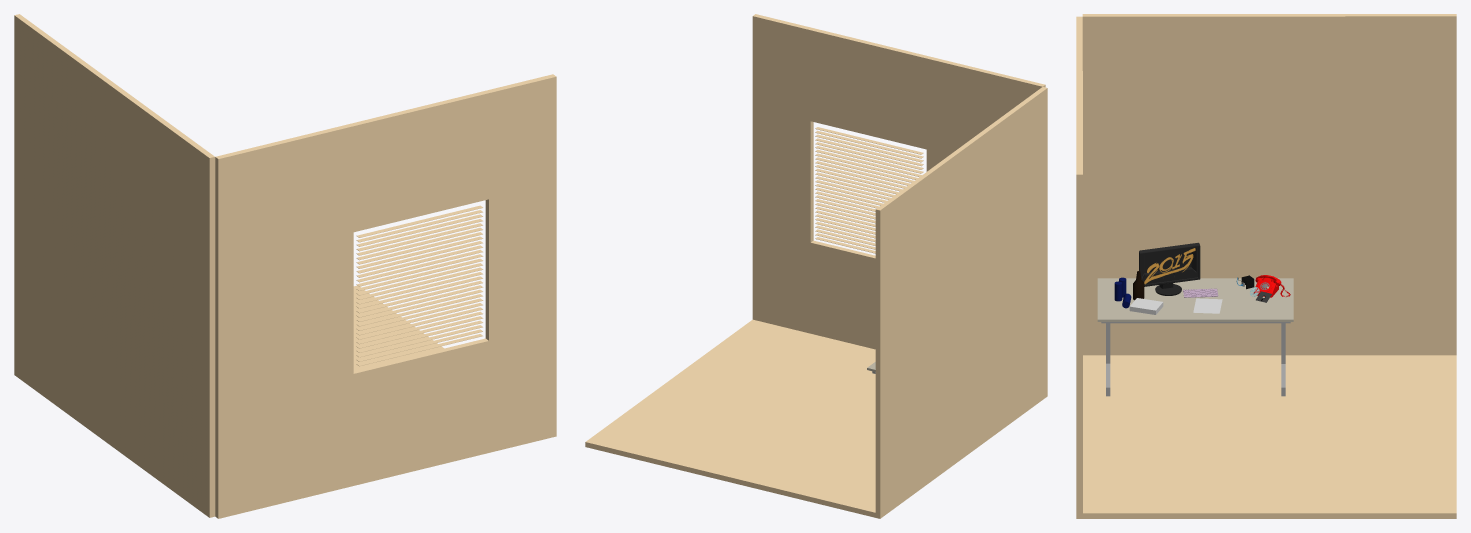
Rendered from hacker_room.dae.
The picture shows the model from 3 angles, left to right: view 1: azimuth 30°, elevation 25°; view 2: azimuth 150°, elevation 25°; view 3: azimuth 270°, elevation 25°; orthographic projection. The views are drawn at different scales.
Visible parts, largest first — view 1: SketchUp; view 2: SketchUp; view 3: SketchUp, ID1190, JERKER_Schreibtisch, ID51, ID45, display-panel, IDA Book.
Boxes of the visible parts, x1,y1,x2,y2 form: SketchUp: [14, 14, 556, 518]; SketchUp: [585, 14, 1047, 518]; SketchUp: [1076, 14, 1456, 518]; ID1190: [1097, 278, 1293, 321]; JERKER_Schreibtisch: [1101, 322, 1290, 396]; ID51: [1139, 242, 1200, 286]; ID45: [1141, 247, 1196, 279]; display-panel: [1144, 248, 1195, 284]; IDA Book: [1129, 298, 1163, 314].
Bounding box in the file's own units: 122 × 122 × 122.
